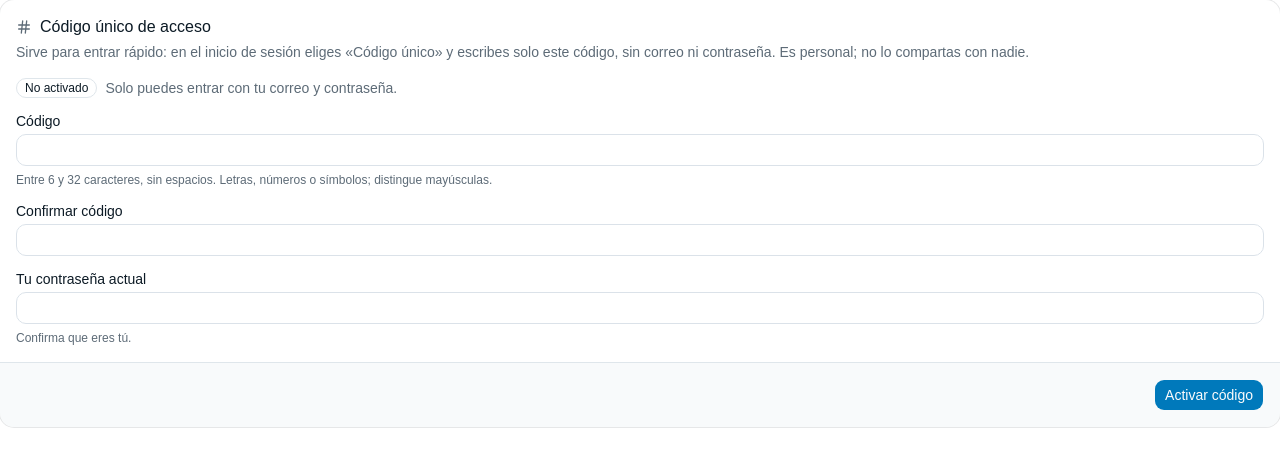
Test: CodigoAccesoForm › valida en el cliente antes de enviar (confirmación distinta)
Expected: the text "No activado" is shown, [16, 78, 97, 98]
Type "Rita#2026" into the password field labelled "Código". click: (640, 150)
box: [16, 134, 1264, 166]
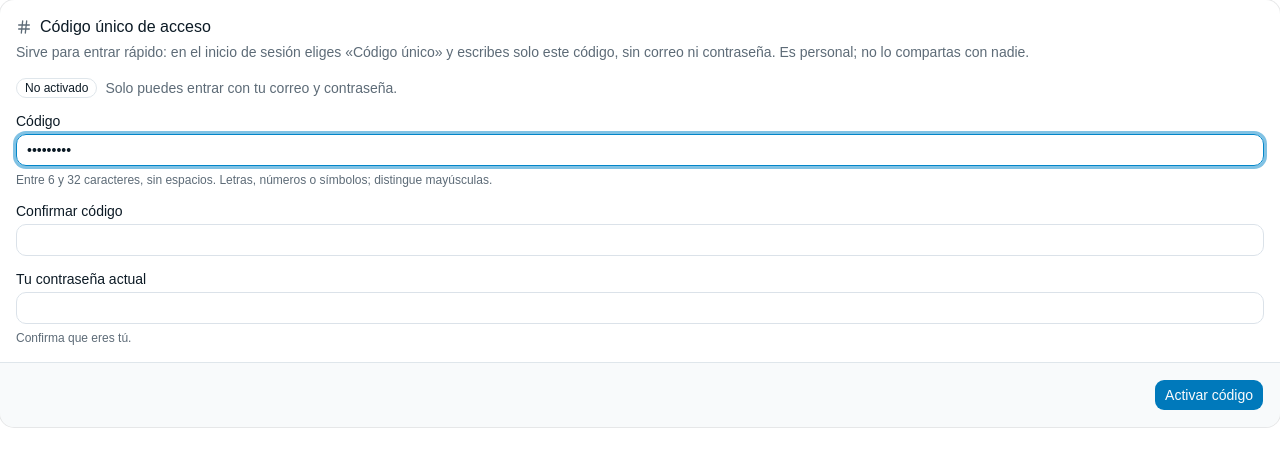
Type "Rita#2027" into the password field labelled "Confirmar código". click: (640, 240)
box: [16, 224, 1264, 256]
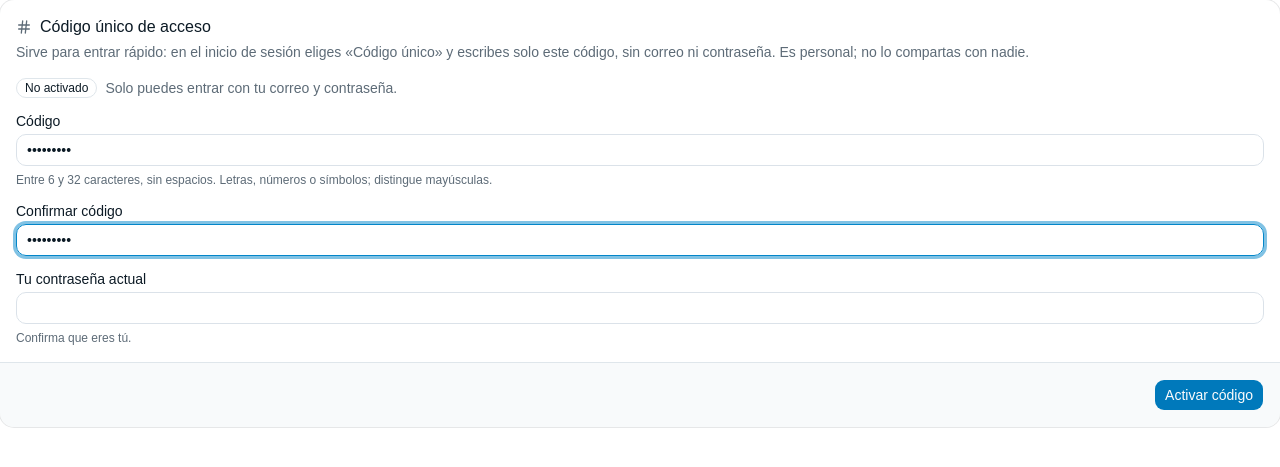
Type "Repartidor123!" into the password field labelled "Tu contraseña actual". click: (640, 308)
box: [16, 292, 1264, 324]
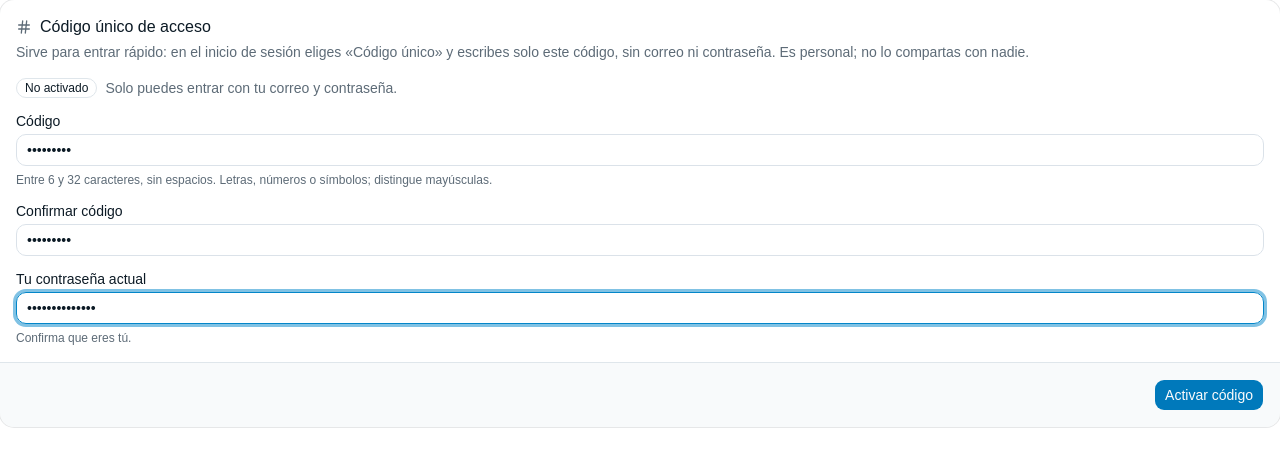
Click the button "Activar código". click: (1209, 395)
box: [1154, 379, 1264, 411]
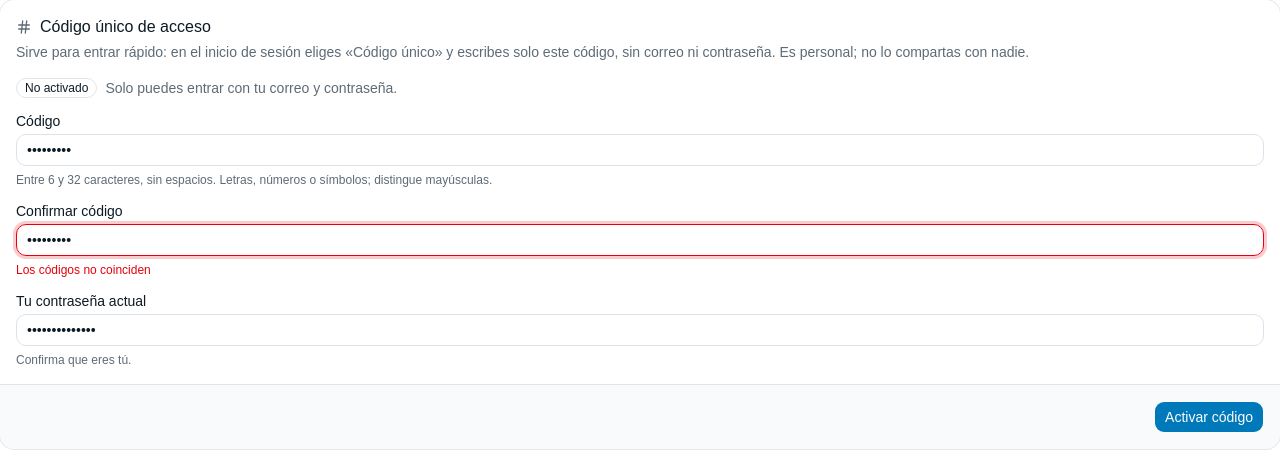
Result: the text "Los códigos no coinciden" is shown at [16, 263, 151, 277]
